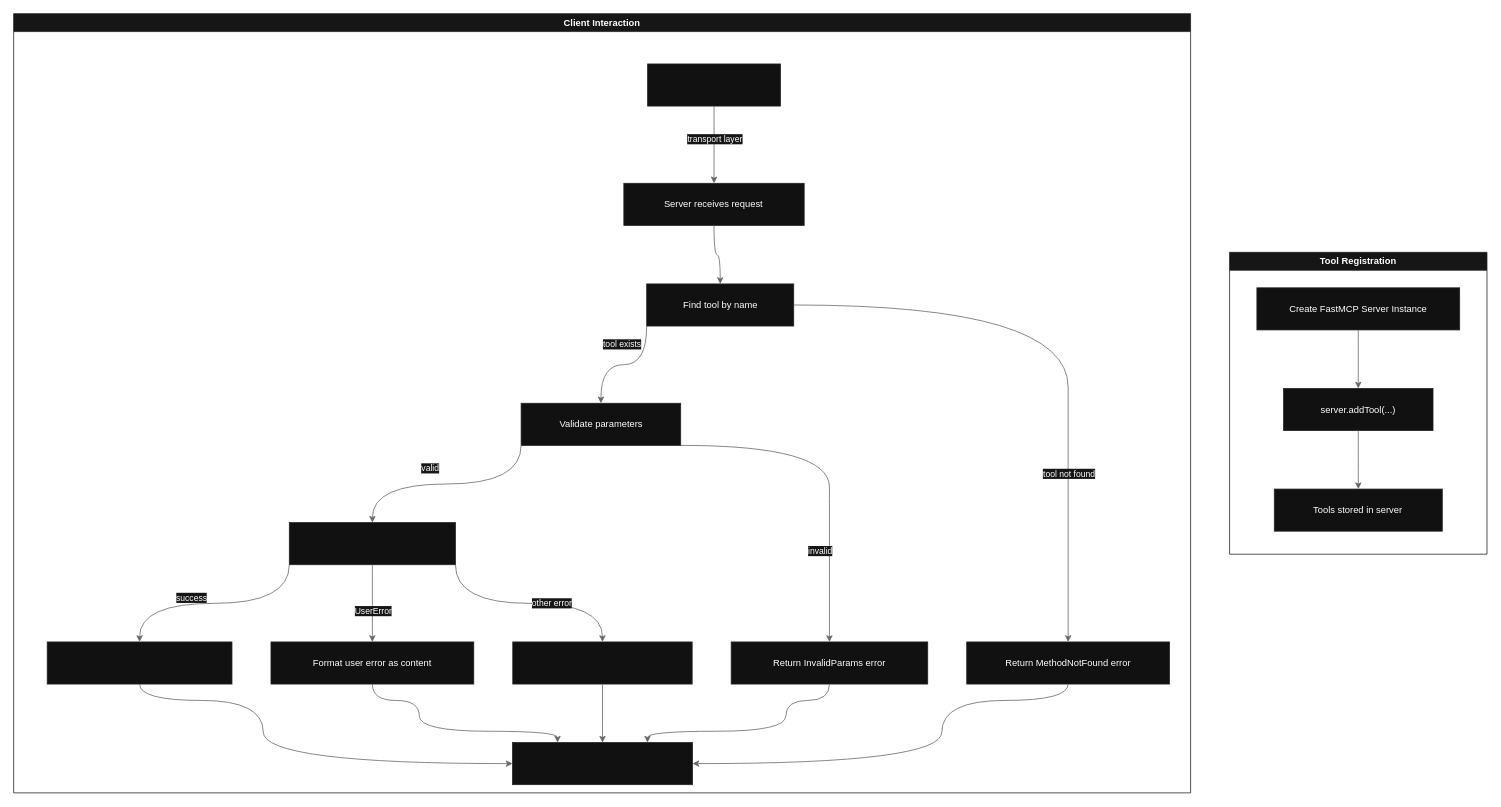
The diagram is 1501 pixels wide and 807 high, and some of its shapes have lost their labels. The centre of each missing label's shape, as x and y in pixels:
"Client calls tool" goes at (713,84).
"Execute tool function" goes at (372,543).
"Format as internal error" goes at (602,662).
"Format result as content" goes at (139,662).
"Send response to client" goes at (602,763).
